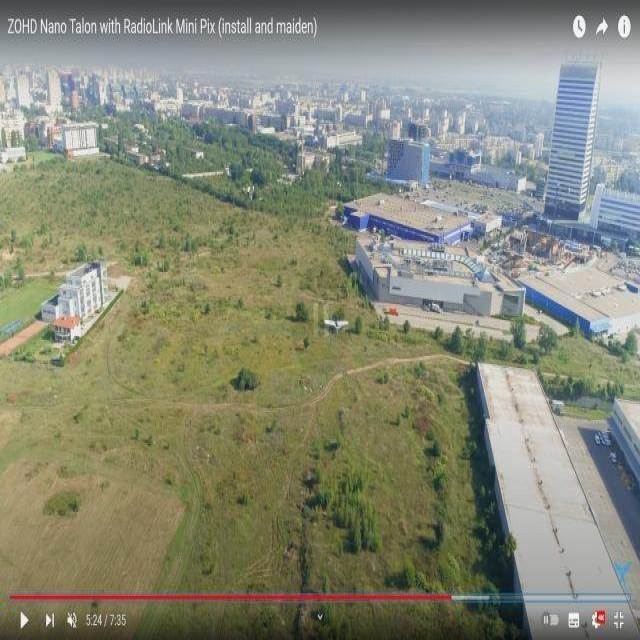Airplane: (320, 314, 355, 334)
